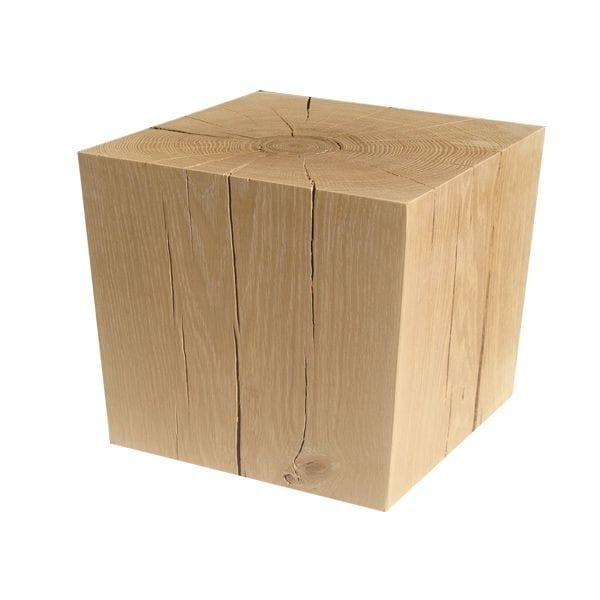cubos: (69, 61, 554, 539)
